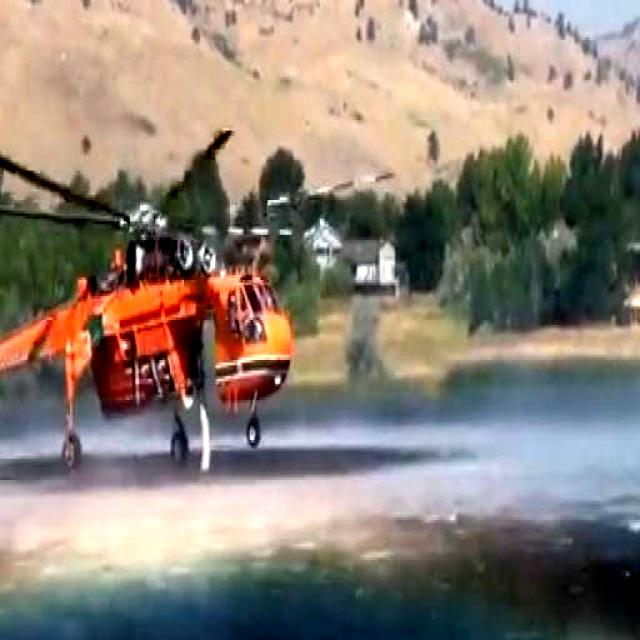drone: (0, 86, 308, 466)
